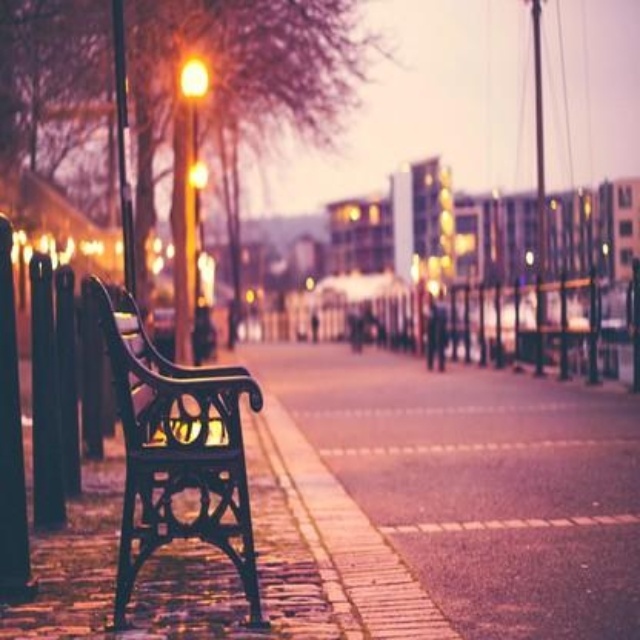obstacle: (63, 258, 291, 614)
